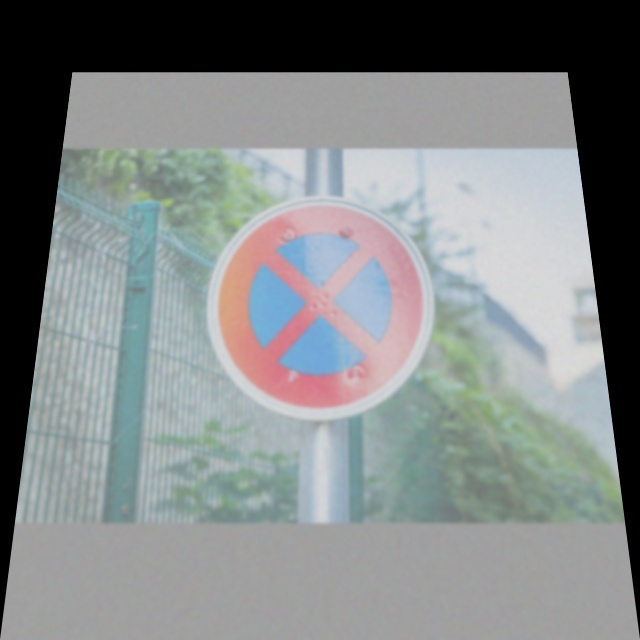No_Stopping_or_Standing: (206, 209, 440, 408)
